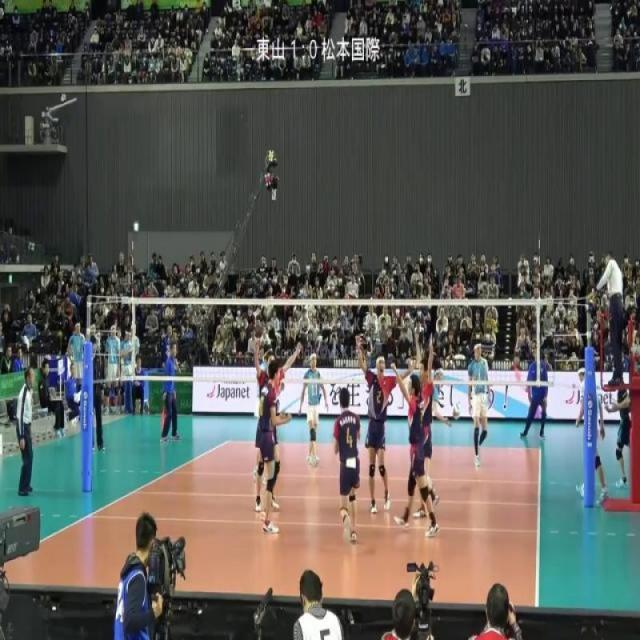volleyball: (451, 402, 462, 421)
